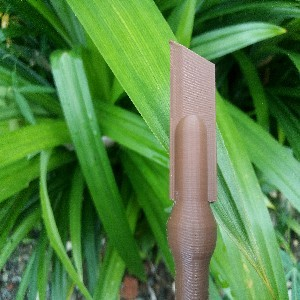cutter: (165, 37, 217, 300)
